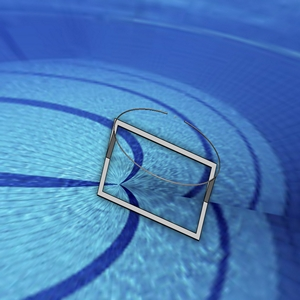circle: (97, 106, 222, 241)
